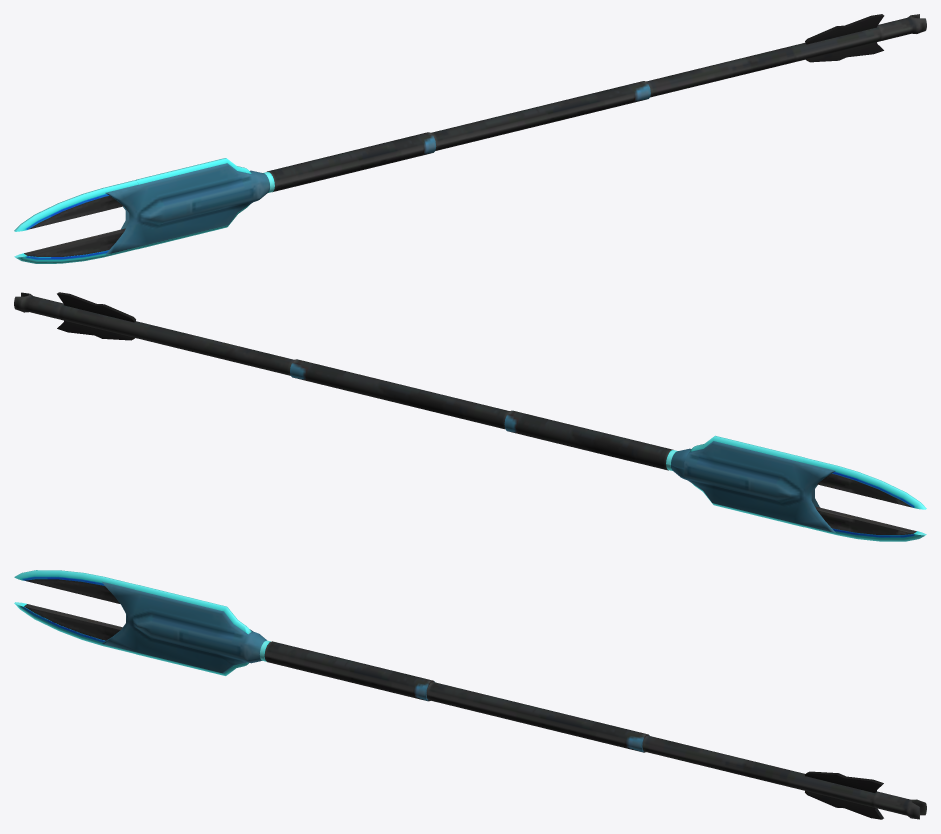
File: shock-dart.glb
3 views of the same model, one above another, from view 1: azimuth 30°, elevation 25°; view 2: azimuth 150°, elevation 25°; view 3: azimuth 330°, elevation 25° (orthographic).
Visible parts, largest first — view 1: AB_Hunter_S0_4_Arrow_Staticmesh.mo; view 2: AB_Hunter_S0_4_Arrow_Staticmesh.mo; view 3: AB_Hunter_S0_4_Arrow_Staticmesh.mo.
Boxes of the visible parts, box(x1,y1,x2,y2) form: AB_Hunter_S0_4_Arrow_Staticmesh.mo: box(14, 14, 926, 263); AB_Hunter_S0_4_Arrow_Staticmesh.mo: box(14, 292, 926, 541); AB_Hunter_S0_4_Arrow_Staticmesh.mo: box(14, 570, 926, 819).
Bounding box in the file's own units: 0.769 × 0.0556 × 0.019.
Materials: 2 (2 with a texture image).
